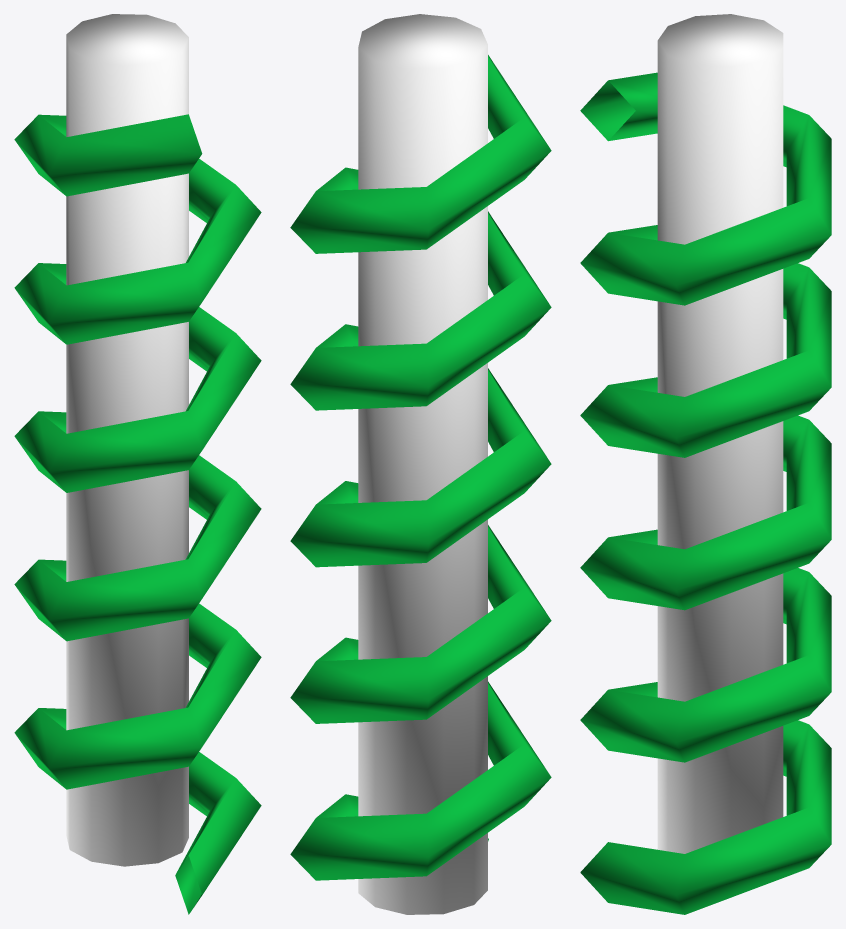
File: BeetleCarCoill.fbx
3 renders of one model, left to right at view 1: azimuth 30°, elevation 25°; view 2: azimuth 150°, elevation 25°; view 3: azimuth 270°, elevation 25°, orthographic. The views are drawn at different scales.
Parts seen in each view (by area): view 1: BeetleCarSprings; view 2: BeetleCarSprings; view 3: BeetleCarSprings.
Part boxes in pixels (x1,y1,x2,y2): BeetleCarSprings: (14,14,261,914); BeetleCarSprings: (290,14,551,914); BeetleCarSprings: (580,14,831,914).
Size of the model in its own units: 0.3552 by 0.3552 by 1.34.
